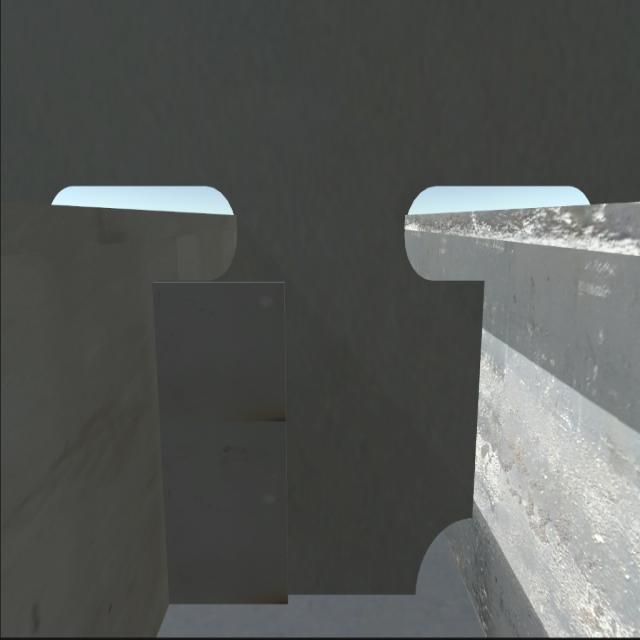fillet_hole: (411, 519, 476, 596)
fillet_yong_jeop_jang: (173, 574, 428, 608)
longi_yong_jeop_jang: (142, 271, 182, 614), (466, 275, 488, 517)
plate_CP01: (150, 277, 285, 601)
